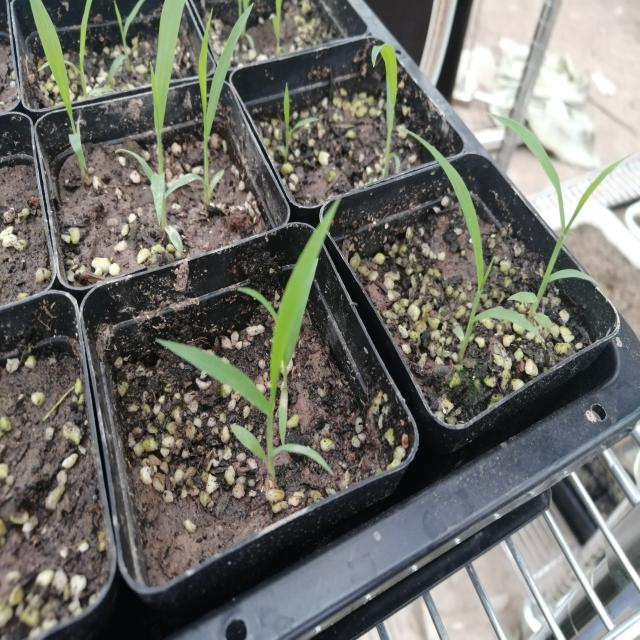crabgrass: (172, 208, 370, 464), (412, 128, 534, 364), (496, 111, 640, 308), (98, 0, 200, 236), (10, 0, 88, 182)
